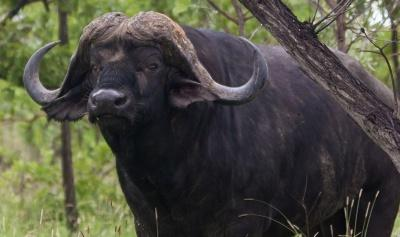buffalo: (24, 0, 399, 236)
